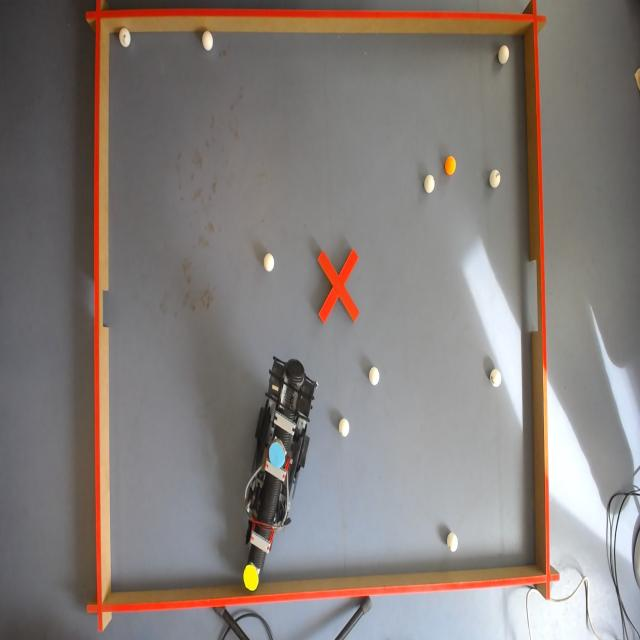orange: (445, 156, 458, 176)
robot: (241, 349, 321, 590)
robot-front: (242, 566, 260, 594)
robot-rear: (266, 441, 286, 470)
white: (446, 533, 460, 556), (201, 34, 215, 52), (369, 367, 382, 386), (489, 168, 502, 187), (339, 418, 352, 436), (424, 173, 436, 192), (119, 28, 131, 47), (264, 254, 276, 272), (499, 46, 510, 64), (491, 370, 501, 385)
